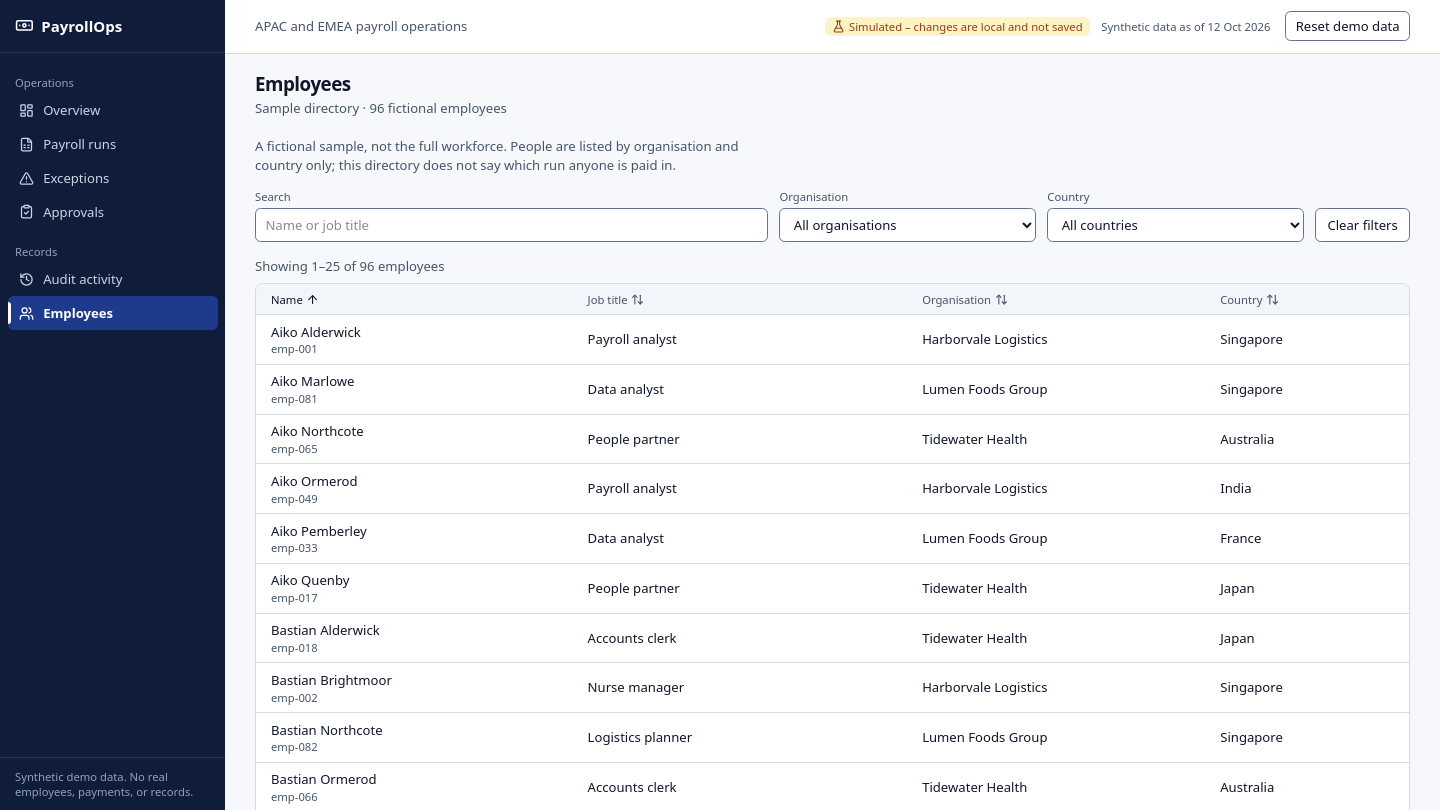
Employees page › shows an empty state, clears the search box and URL together, and returns focus to the search box
The width and height of the screenshot is (1440, 810).
In the search field labelled "Search": (512, 225) [255,208,768,242], type "zzzz"
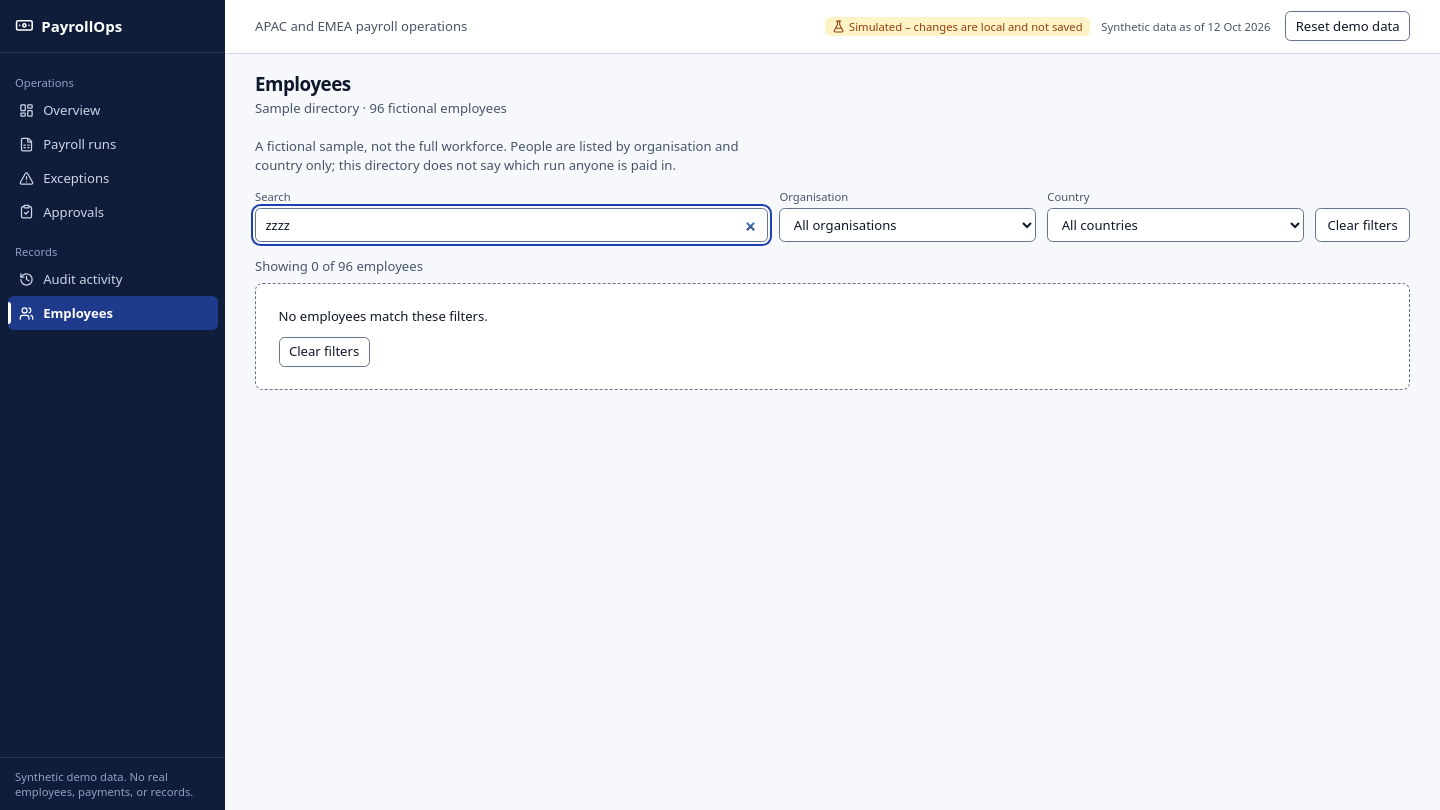
Expected: the text "No employees match these filters." is shown, [278,307,488,325]
Click the button "Clear filters" below "No employees match these filters.": (324, 352) [278,337,370,367]
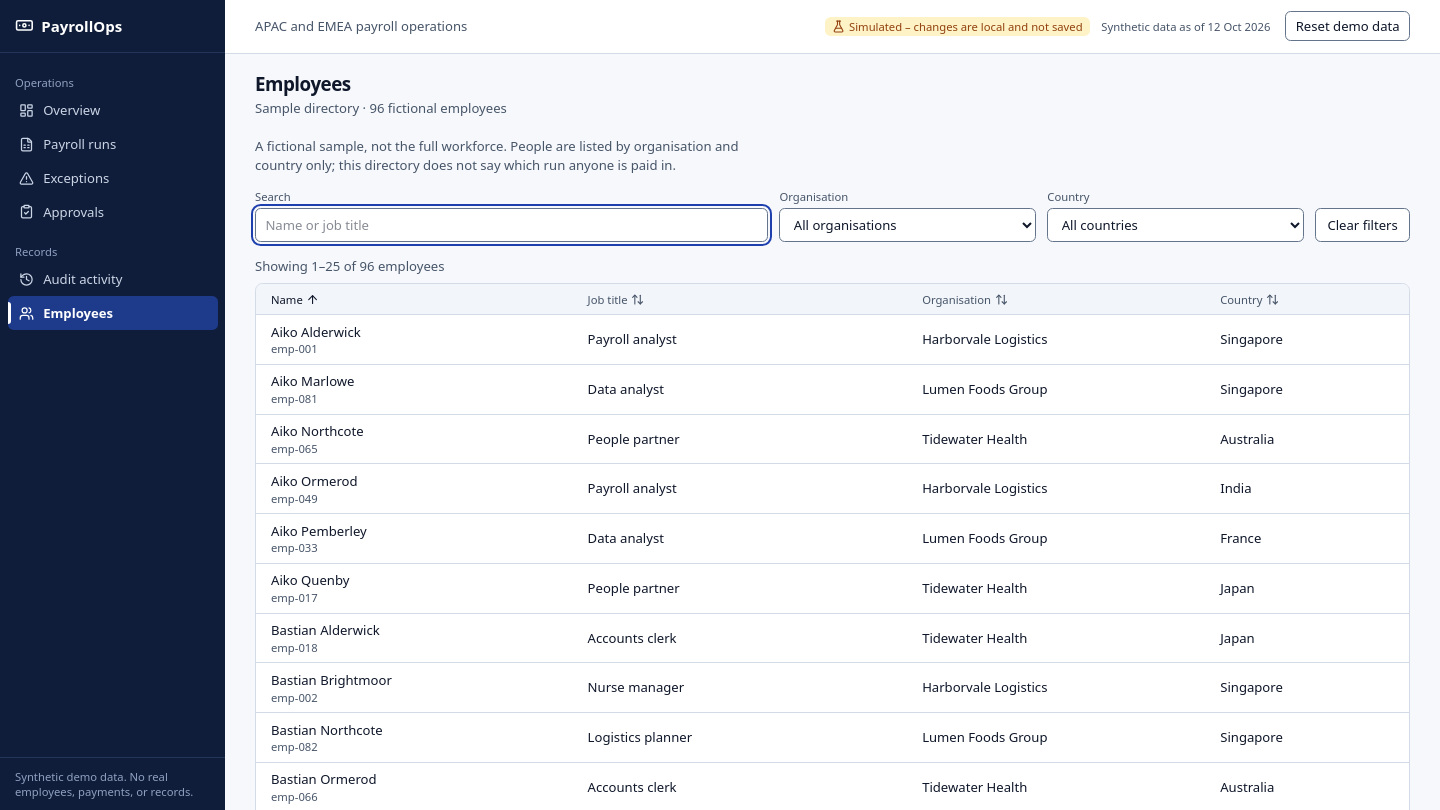
Expected: the search field labelled "Search" is empty, [255,208,768,242]
